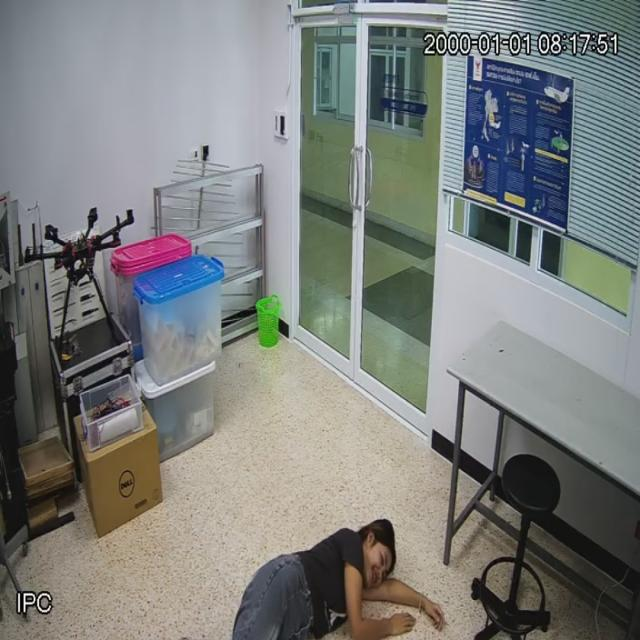fall: (232, 517, 445, 640)
